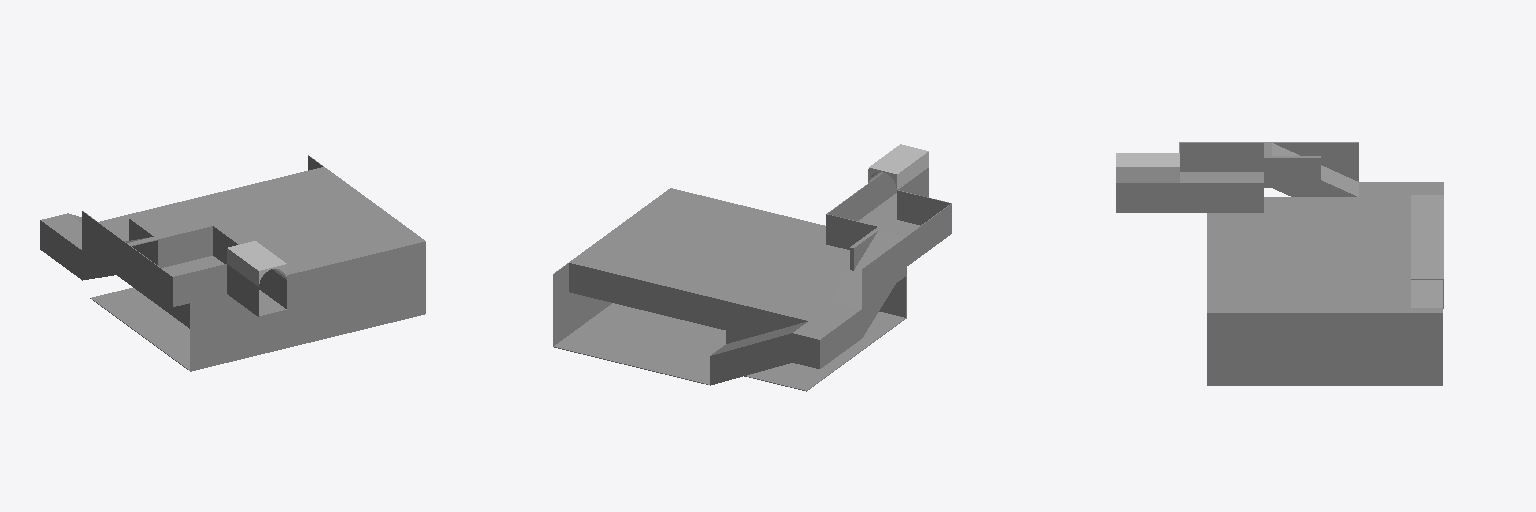
File: copstation1.obj
3 views of the same model, side by side, from view 1: azimuth 30°, elevation 25°; view 2: azimuth 150°, elevation 25°; view 3: azimuth 270°, elevation 25° (orthographic).
Visible parts, largest first — view 1: copstation1_Plane, Cylinder; view 2: copstation1_Plane, Cylinder; view 3: copstation1_Plane, Cylinder.
Part boxes in pixels (x1,y1,x2,y2): copstation1_Plane: (40,155,425,371); Cylinder: (227,241,286,286); copstation1_Plane: (553,168,951,391); Cylinder: (868,144,928,189); copstation1_Plane: (1116,142,1443,385); Cylinder: (1116,153,1179,182).
Size of the model in its own units: 77.6 by 35.58 by 82.2.